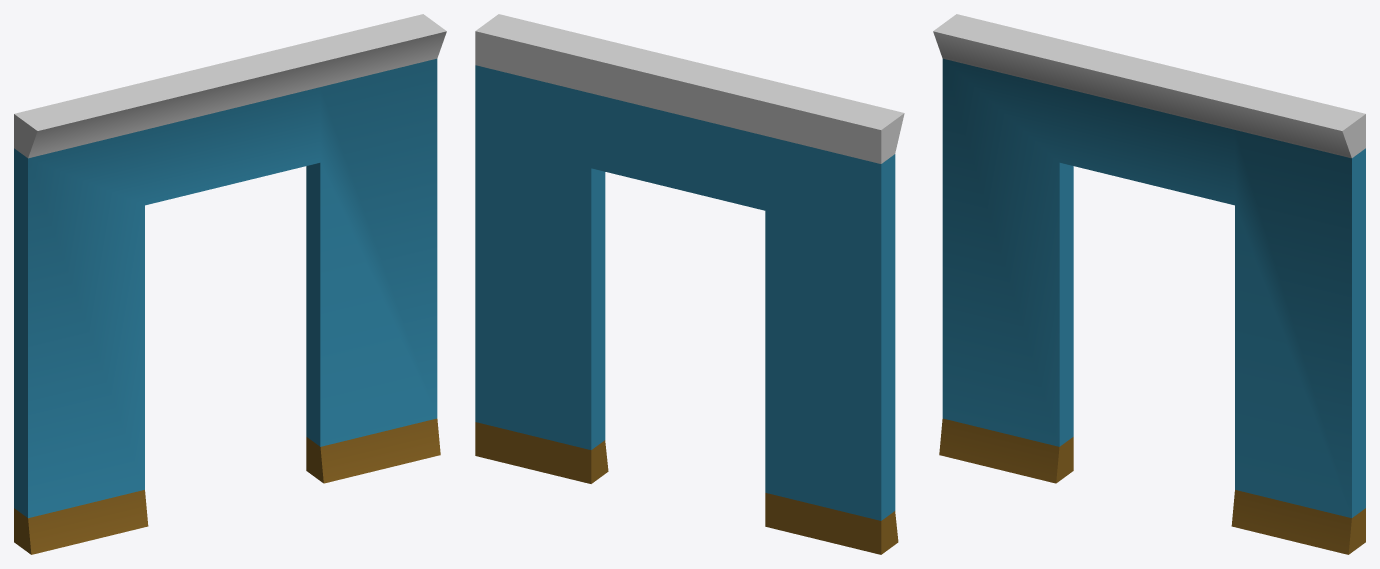
The model's file is DoorWall.fbx.
3 views of the same model, side by side, from view 1: azimuth 30°, elevation 25°; view 2: azimuth 150°, elevation 25°; view 3: azimuth 330°, elevation 25° (orthographic).
Visible parts, largest first — view 1: WallDoor; view 2: WallDoor; view 3: WallDoor.
Boxes of the visible parts, <box> form: WallDoor: <box>14,14,446,554</box>; WallDoor: <box>475,14,904,554</box>; WallDoor: <box>933,14,1365,554</box>.
Bounding box in the file's own units: 200 × 200 × 20.
